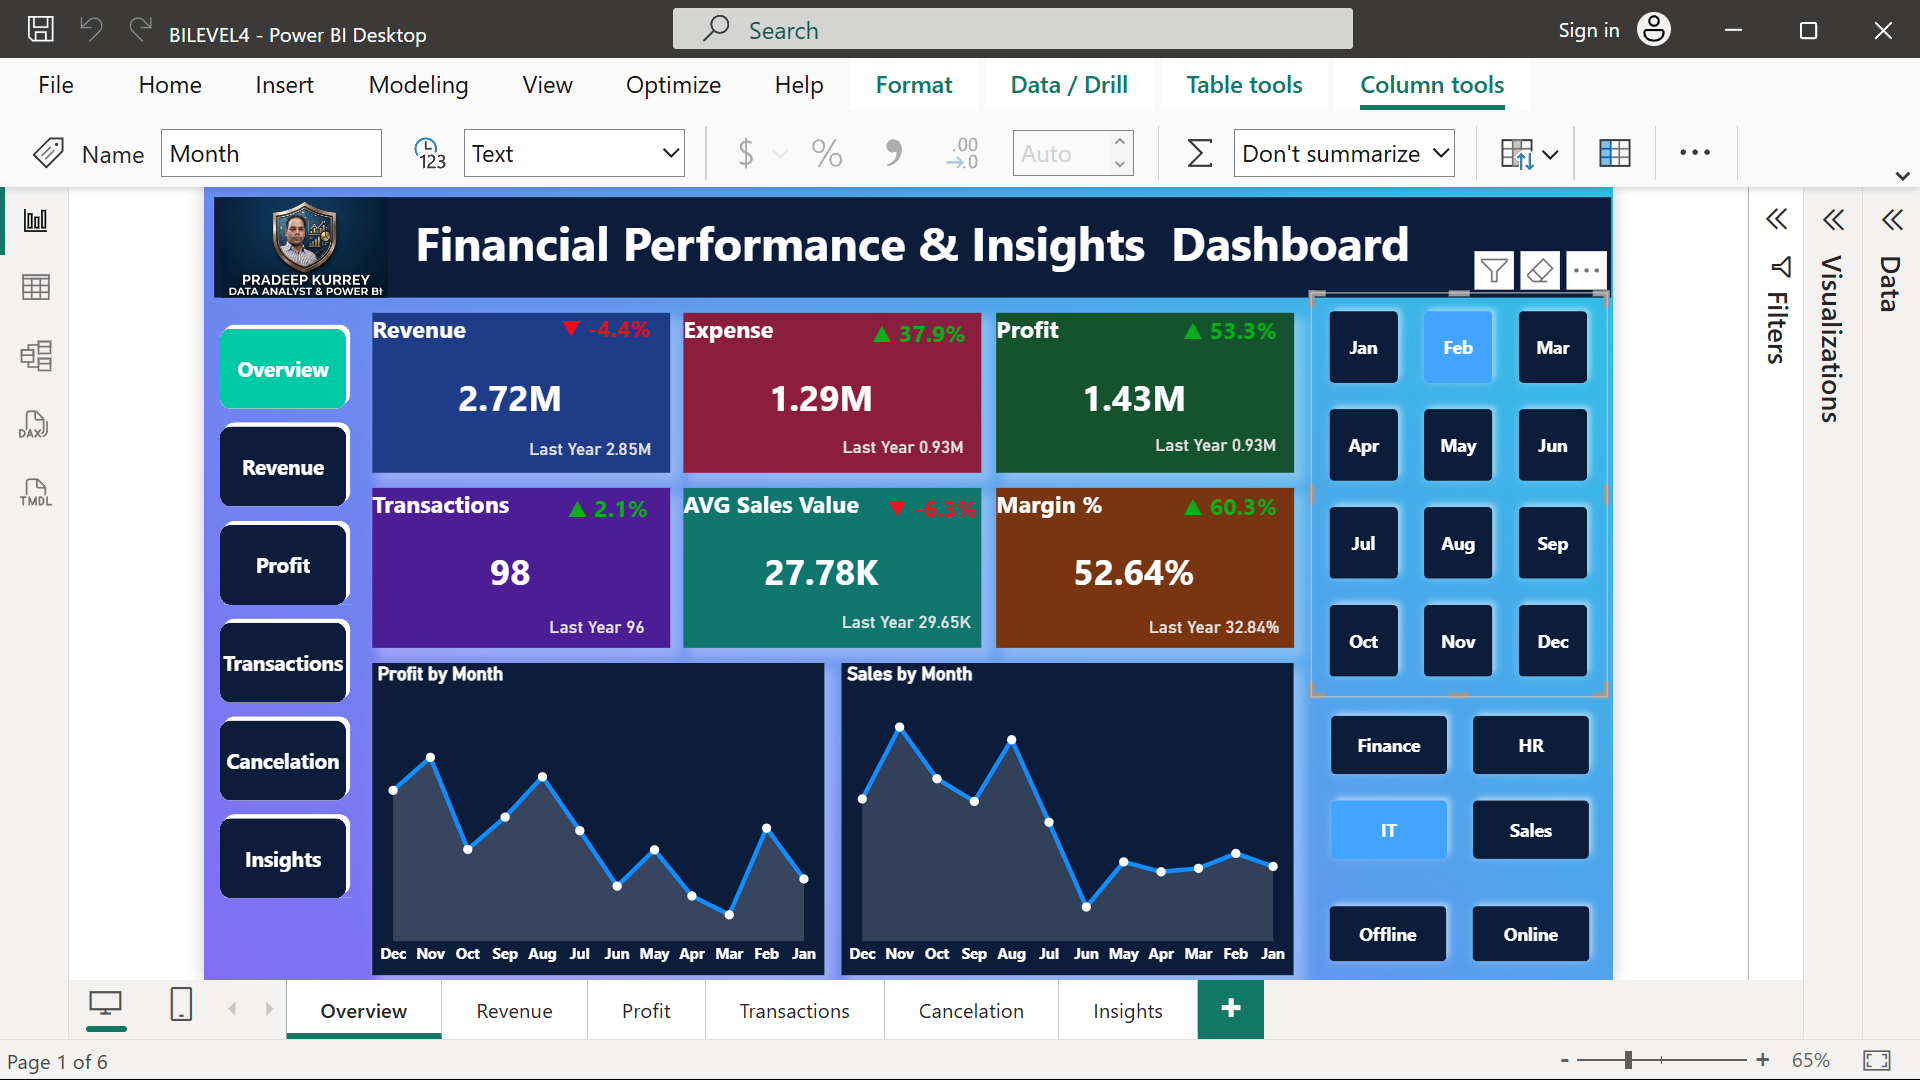

This screenshot's page, from the dashboard's own definition file:
{"tool":"powerbi","page":{"name":"Overview","canvas":[1280,720],"ordinal":0},"visuals":[{"type":"textbox","box":[8.9,8.9,1268.9,91.1],"z":0},{"type":"image","box":[8.9,8.9,164.4,91.1],"z":1000},{"type":"card","title":"Revenue","fields":{"Values":["Date Table.sales2024"]},"box":[152.7,114,270.5,145.4],"z":2000},{"type":"card","title":"Expense","fields":{"Values":["Date Table.Cost2024"]},"box":[436.1,114,270.5,145.4],"z":3000},{"type":"card","title":"Profit","fields":{"Values":["Date Table.profit2024"]},"box":[719.5,114,270.5,145.4],"z":4000},{"type":"advancedSlicerVisual","fields":{"Values":["Date Table.Month"]},"box":[1004.7,95.7,270.5,368],"z":5000},{"type":"card","title":"Transactions","fields":{"Values":["Date Table.transaction2024"]},"box":[152.7,272.5,270.5,145],"z":6000},{"type":"card","title":"AVG Sales Value","fields":{"Values":["Date Table.avg2024"]},"box":[436.1,272.5,270.5,145],"z":7000},{"type":"card","title":"Margin %","fields":{"Values":["Date Table.margin"]},"box":[719.5,272.5,270.5,145],"z":8000},{"type":"card","fields":{"Values":["Date Table.sales groth%"]},"box":[307.3,106.7,115.9,46],"z":9000},{"type":"card","fields":{"Values":["Date Table.transation%"]},"box":[309.1,270.5,115.9,46],"z":10000},{"type":"card","fields":{"Values":["Date Table.avggrowth%"]},"box":[603.5,270.5,115.9,46],"z":11000},{"type":"card","fields":{"Values":["Date Table.profit growth%"]},"box":[874,108.6,115.9,46],"z":12000},{"type":"card","fields":{"Values":["Date Table.cost growth%"]},"box":[590.6,110.4,115.9,46],"z":13000},{"type":"card","fields":{"Values":["Date Table.margingrowth%"]},"box":[874,268.6,115.9,46],"z":14000},{"type":"pageNavigator","box":[9.2,123.3,125.1,529.9],"z":15000},{"type":"advancedSlicerVisual","fields":{"Values":["Sheet1.Department"]},"box":[1006.5,463.7,268.6,165.6],"z":16000},{"type":"areaChart","title":"Profit by Month","fields":{"Y":["Date Table.profit2024"],"Category":["Date Table.Month"]},"box":[152.7,432.4,410.3,283.4],"z":17000},{"type":"areaChart","title":"Sales by Month","fields":{"Y":["Date Table.sales2024"],"Category":["Date Table.Month"]},"box":[579.6,432.4,410.3,283.4],"z":18000},{"type":"card","fields":{"Values":["Date Table.last year"]},"box":[268.6,220.8,163.8,35],"z":19000},{"type":"card","fields":{"Values":["Date Table.last cost"]},"box":[548.3,220.8,173,31.3],"z":20000},{"type":"card","fields":{"Values":["Date Table.lastprofit"]},"box":[837.2,217.1,163.8,35],"z":21000},{"type":"card","fields":{"Values":["Date Table.lastmarg"]},"box":[835.4,382.7,163.8,35],"z":22000},{"type":"card","fields":{"Values":["Date Table.lastavg"]},"box":[555.7,379,163.8,35],"z":23000},{"type":"card","fields":{"Values":["Date Table.lasttran"]},"box":[274.2,382.7,163.8,35],"z":24000},{"type":"advancedSlicerVisual","fields":{"Values":["Sheet1.Payment_Mode"]},"box":[1004.7,635.4,270.5,84.6],"z":25000}]}

Visuals, with their boxes on the page's 1280x720 design canvas (x1, y1, x2, y2). These are canvas units, not pixel positions in the 1920x1080 screenshot, which may show the page scaled, cropped or inside an application window:
textbox: 9,9,1278,100
image: 9,9,173,100
"Revenue" card: 153,114,423,259
"Expense" card: 436,114,707,259
"Profit" card: 720,114,990,259
advancedSlicerVisual - Date Table.Month: 1005,96,1275,464
"Transactions" card: 153,272,423,418
"AVG Sales Value" card: 436,272,707,418
"Margin %" card: 720,272,990,418
card - Date Table.sales groth%: 307,107,423,153
card - Date Table.transation%: 309,270,425,316
card - Date Table.avggrowth%: 604,270,719,316
card - Date Table.profit growth%: 874,109,990,155
card - Date Table.cost growth%: 591,110,706,156
card - Date Table.margingrowth%: 874,269,990,315
pageNavigator: 9,123,134,653
advancedSlicerVisual - Sheet1.Department: 1006,464,1275,629
"Profit by Month" areaChart: 153,432,563,716
"Sales by Month" areaChart: 580,432,990,716
card - Date Table.last year: 269,221,432,256
card - Date Table.last cost: 548,221,721,252
card - Date Table.lastprofit: 837,217,1001,252
card - Date Table.lastmarg: 835,383,999,418
card - Date Table.lastavg: 556,379,720,414
card - Date Table.lasttran: 274,383,438,418
advancedSlicerVisual - Sheet1.Payment_Mode: 1005,635,1275,720
